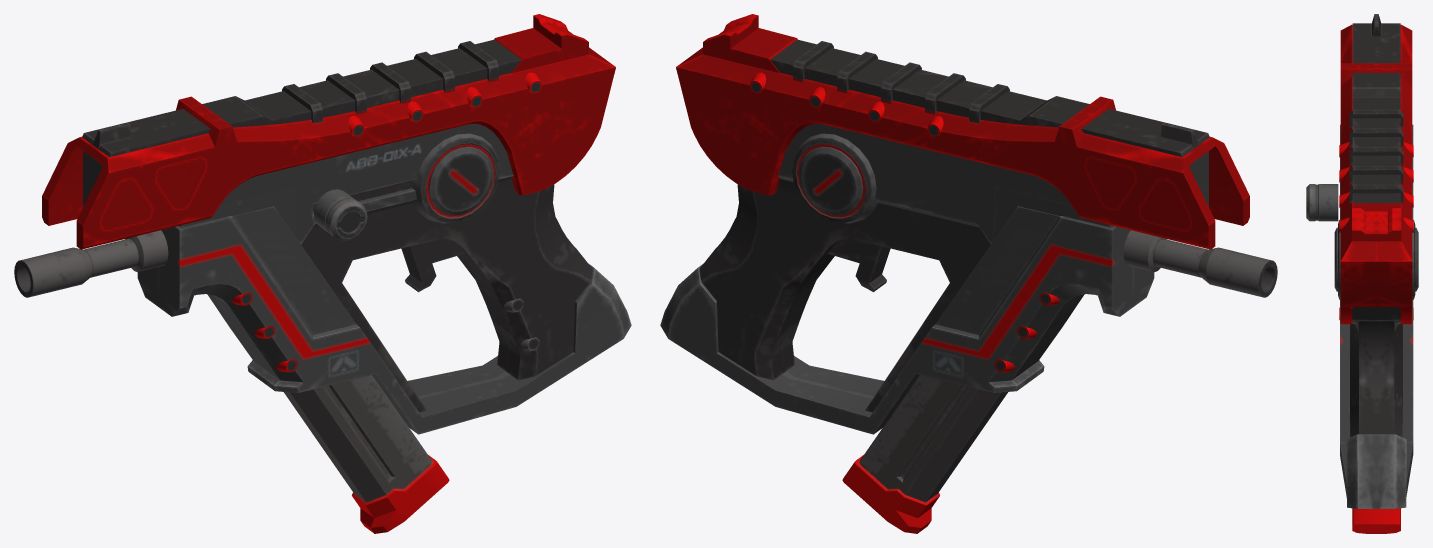
File: Gun_SMG_Red.obj
3 views of the same model, side by side, from view 1: azimuth 30°, elevation 25°; view 2: azimuth 150°, elevation 25°; view 3: azimuth 270°, elevation 25° (orthographic). The views are drawn at different scales.
Visible parts, largest first — view 1: Gun_SMG_Red_Cube.017; view 2: Gun_SMG_Red_Cube.017; view 3: Gun_SMG_Red_Cube.017.
Boxes of the visible parts, box(x1,y1,x2,y2) form: Gun_SMG_Red_Cube.017: box(14, 14, 631, 533); Gun_SMG_Red_Cube.017: box(660, 14, 1277, 533); Gun_SMG_Red_Cube.017: box(1306, 14, 1418, 533).
Bounding box in the file's own units: 0.4828 × 0.3594 × 0.0902.
